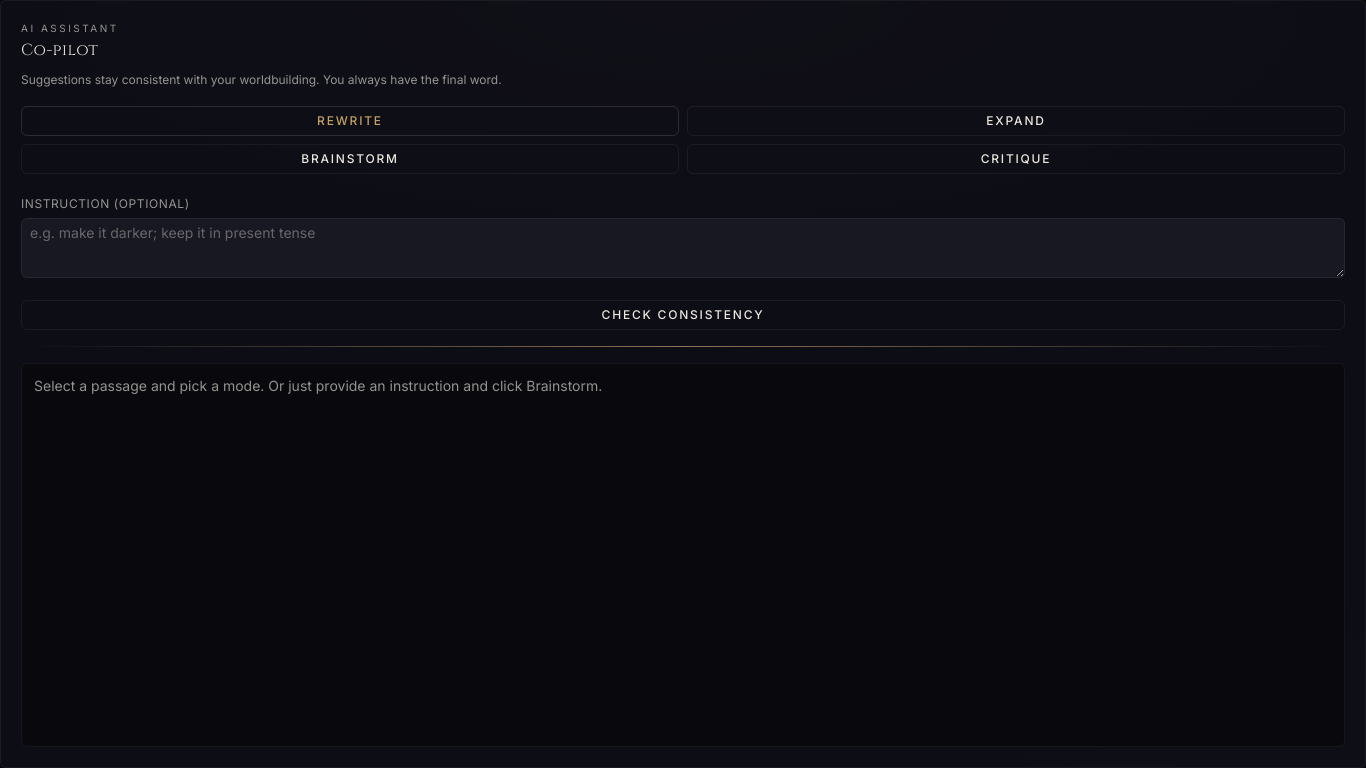
Test: <AIAssistantPanel /> › surfaces API errors
Click the button "Expand". click: (1016,120)
box: [687, 106, 1345, 136]
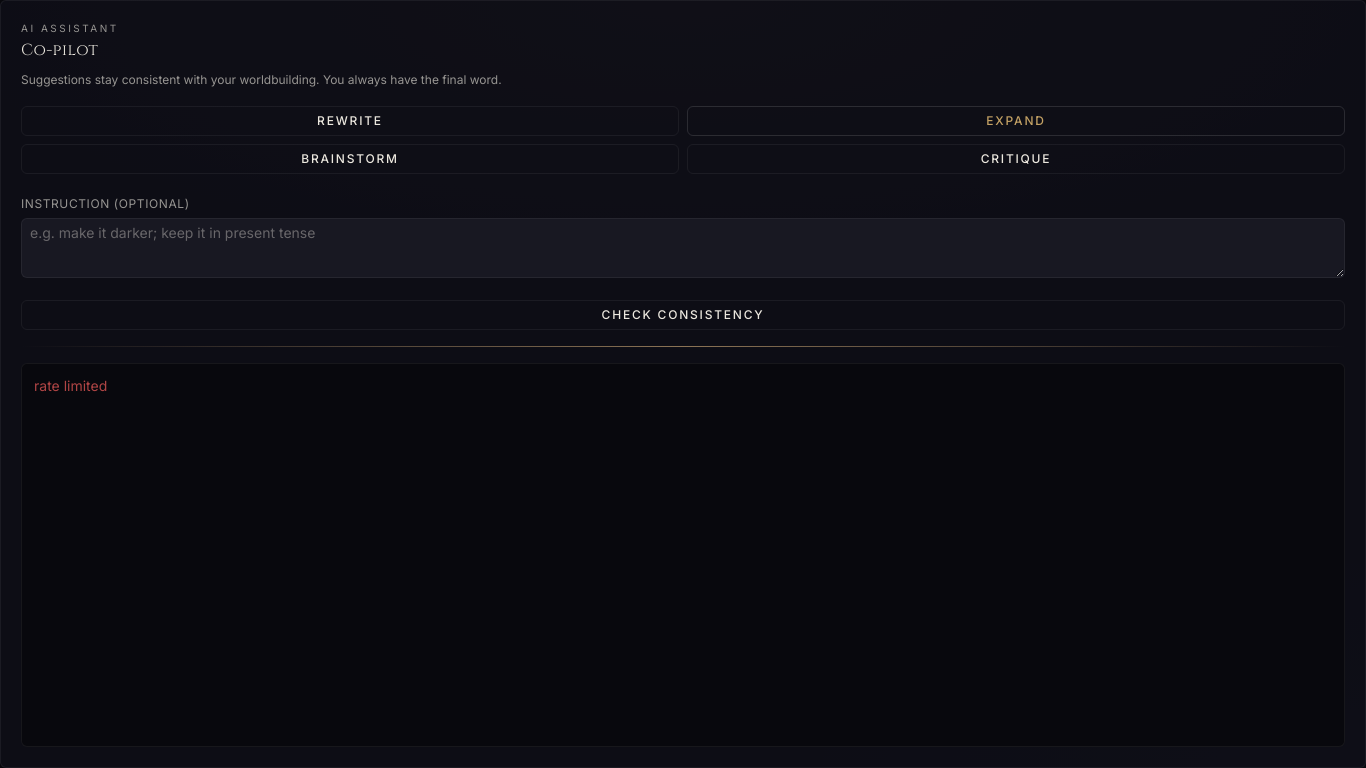
Result: the text "rate limited" is shown at [34, 376, 107, 394]
